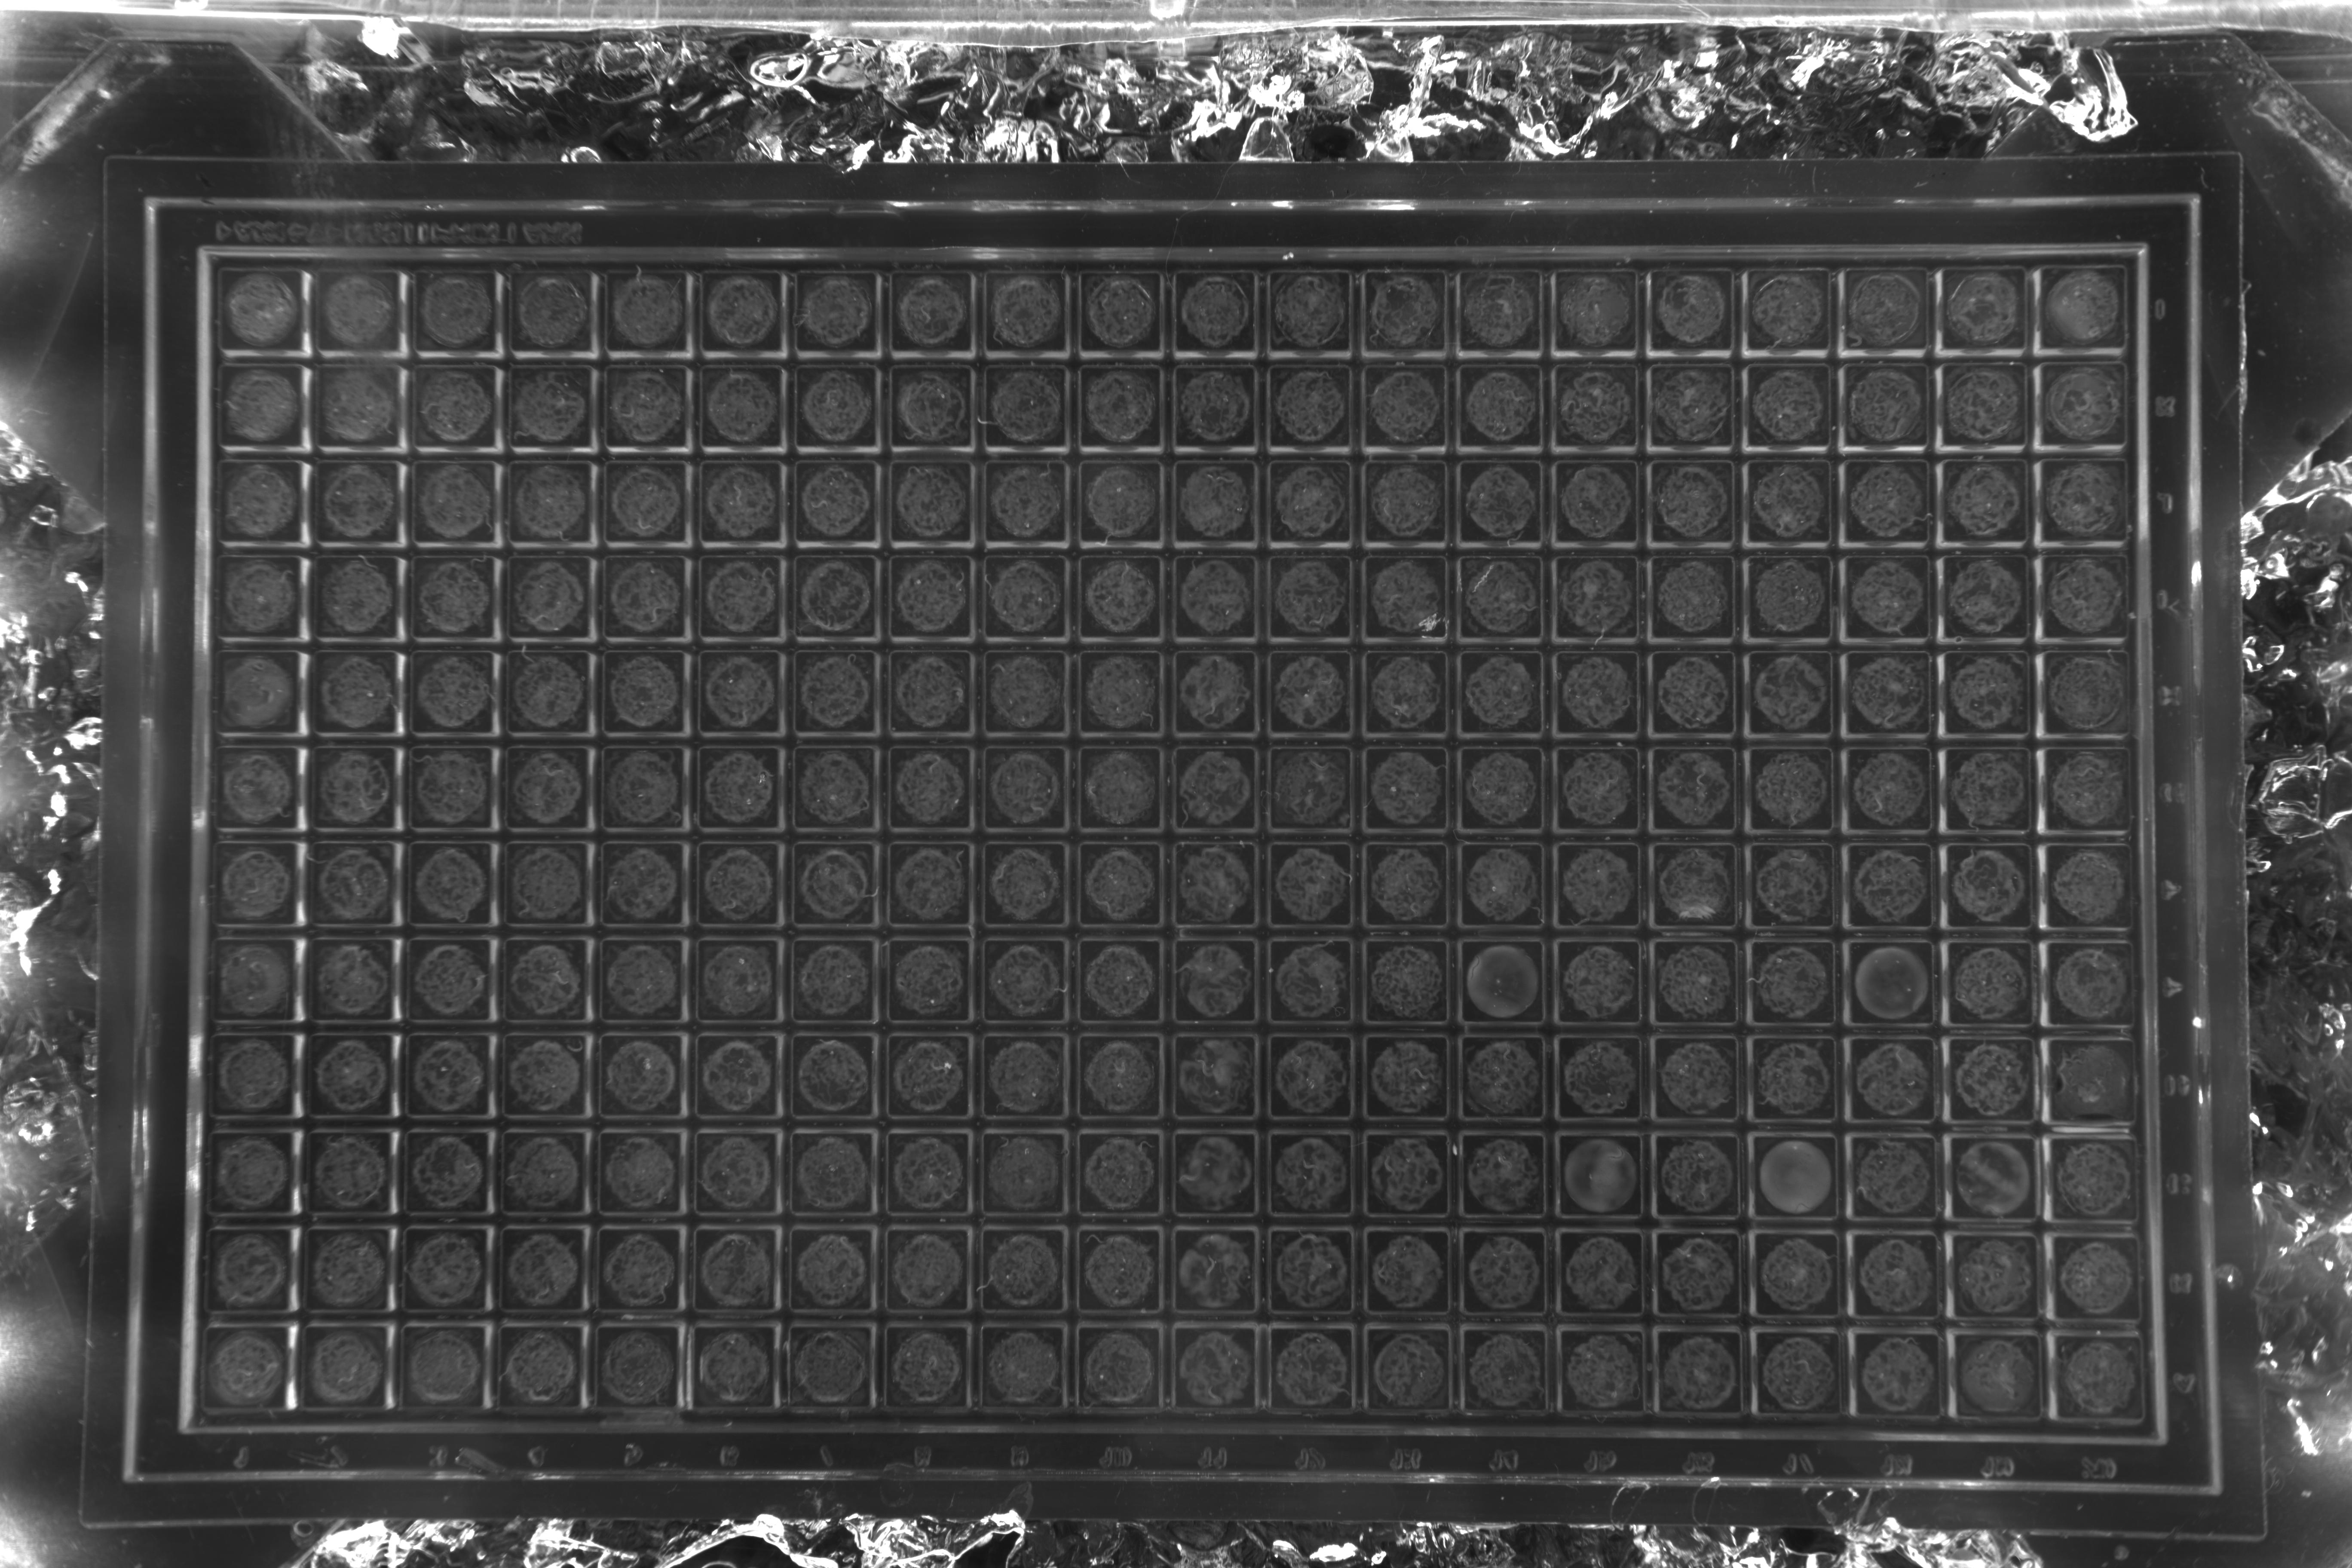WM_well: (395, 945, 485, 1032), (588, 1143, 677, 1230), (688, 1043, 777, 1130), (595, 556, 682, 644), (686, 1241, 773, 1328), (787, 947, 875, 1034), (882, 1337, 969, 1424), (982, 1045, 1069, 1132), (1078, 1337, 1165, 1424), (1078, 1141, 1165, 1228), (1176, 464, 1263, 551), (1272, 656, 1360, 744), (1368, 269, 1456, 357), (1368, 560, 1456, 647), (1370, 1046, 1458, 1134), (1372, 1242, 1459, 1330), (1466, 754, 1554, 842), (1468, 1144, 1556, 1232), (1568, 1146, 1655, 1234), (1664, 950, 1752, 1038), (1759, 366, 1846, 453), (1760, 658, 1848, 745), (1862, 952, 1949, 1039), (1956, 366, 2044, 453)
